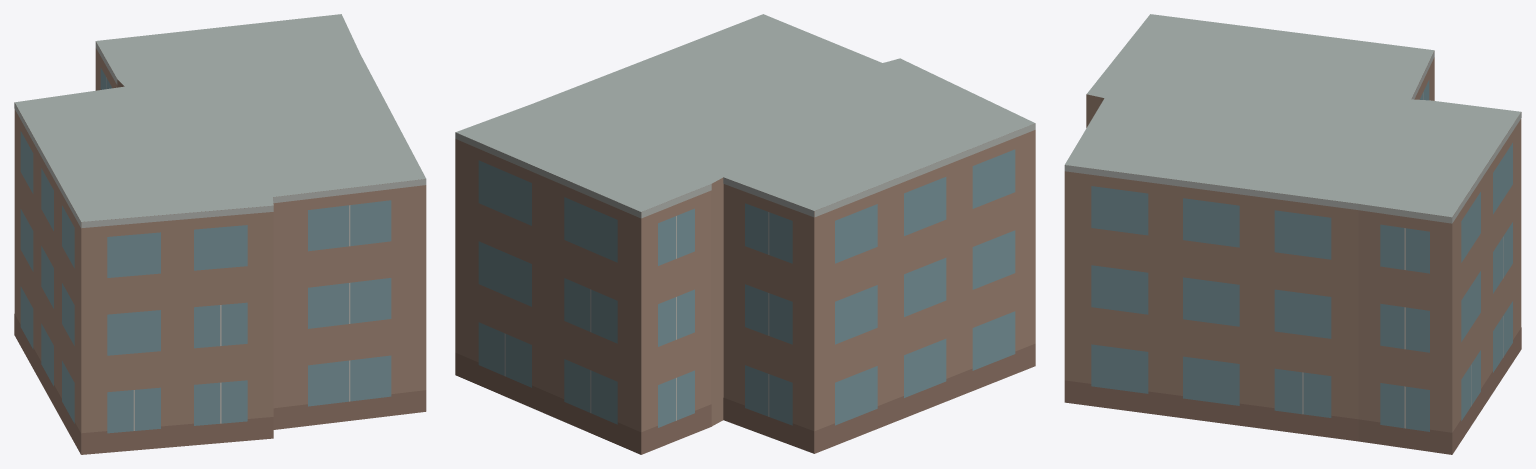
The model's file is survey-upis-32482424.glb.
3 views of the same model, side by side, from view 1: azimuth 30°, elevation 25°; view 2: azimuth 150°, elevation 25°; view 3: azimuth 270°, elevation 25° (orthographic). The views are drawn at different scales.
Visible parts, largest first — view 1: survey-upis-32482424.tmp; view 2: survey-upis-32482424.tmp; view 3: survey-upis-32482424.tmp.
Boxes of the visible parts, x1=… form: survey-upis-32482424.tmp: x1=14, y1=14, x2=426, y2=454; survey-upis-32482424.tmp: x1=455, y1=14, x2=1035, y2=454; survey-upis-32482424.tmp: x1=1064, y1=14, x2=1521, y2=454.
Size of the model in its own units: 16.8 by 9.15 by 15.96.
